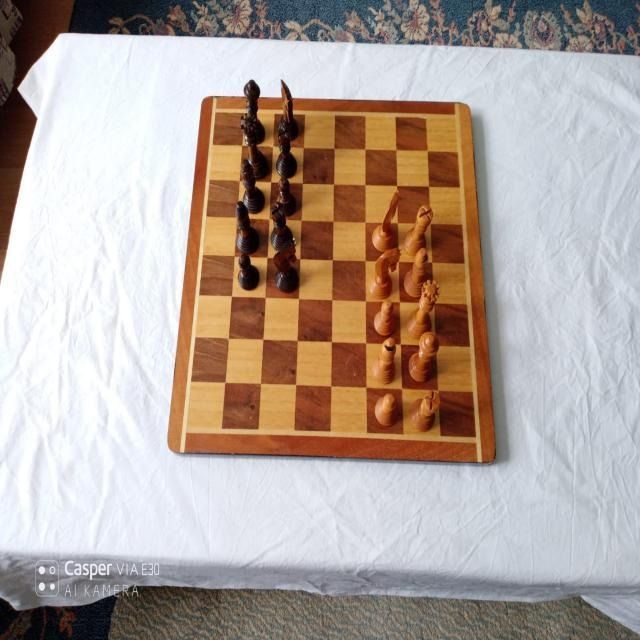black-bishop: (239, 156, 264, 213), (235, 199, 261, 253)
black-king: (242, 78, 265, 145)
black-knight: (273, 236, 299, 292), (276, 78, 299, 141)
black-pawn: (237, 252, 261, 291), (275, 176, 297, 216)
black-queen: (239, 112, 268, 180)
black-rook: (269, 201, 294, 251), (275, 126, 298, 178)
white-bishop: (403, 247, 429, 297), (371, 338, 397, 386)
white-king: (408, 331, 440, 381)
white-knight: (372, 190, 402, 254), (368, 248, 400, 300)
white-pawn: (373, 299, 397, 337), (374, 392, 399, 427)
white-queen: (407, 279, 441, 341)
white-rook: (402, 203, 434, 258), (409, 389, 440, 432)
